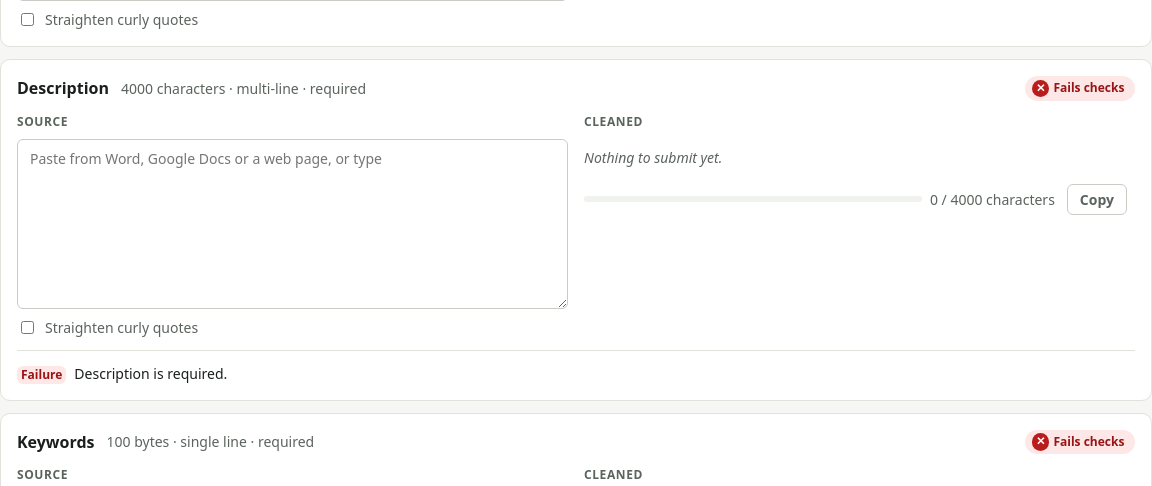
ListingPanel › cleans typed copy without changing wording
The image size is (1152, 486).
(page scrolled)
In the text box labelled "Description Source": [292, 224] box [17,139,568,308], type "Track  symptoms  😀 daily"
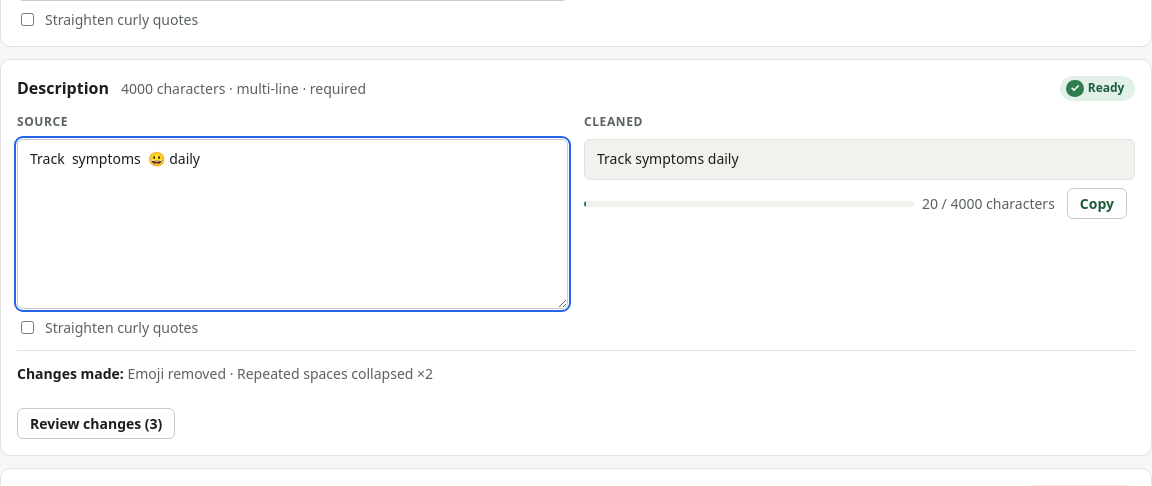
Now the element named "Cleaned Description" reads "Track symptoms daily", box [597,149,739,168]
Now the text "Changes made: Emoji removed · Repeated spaces collapsed ×2" is shown, box [17,364,433,382]
